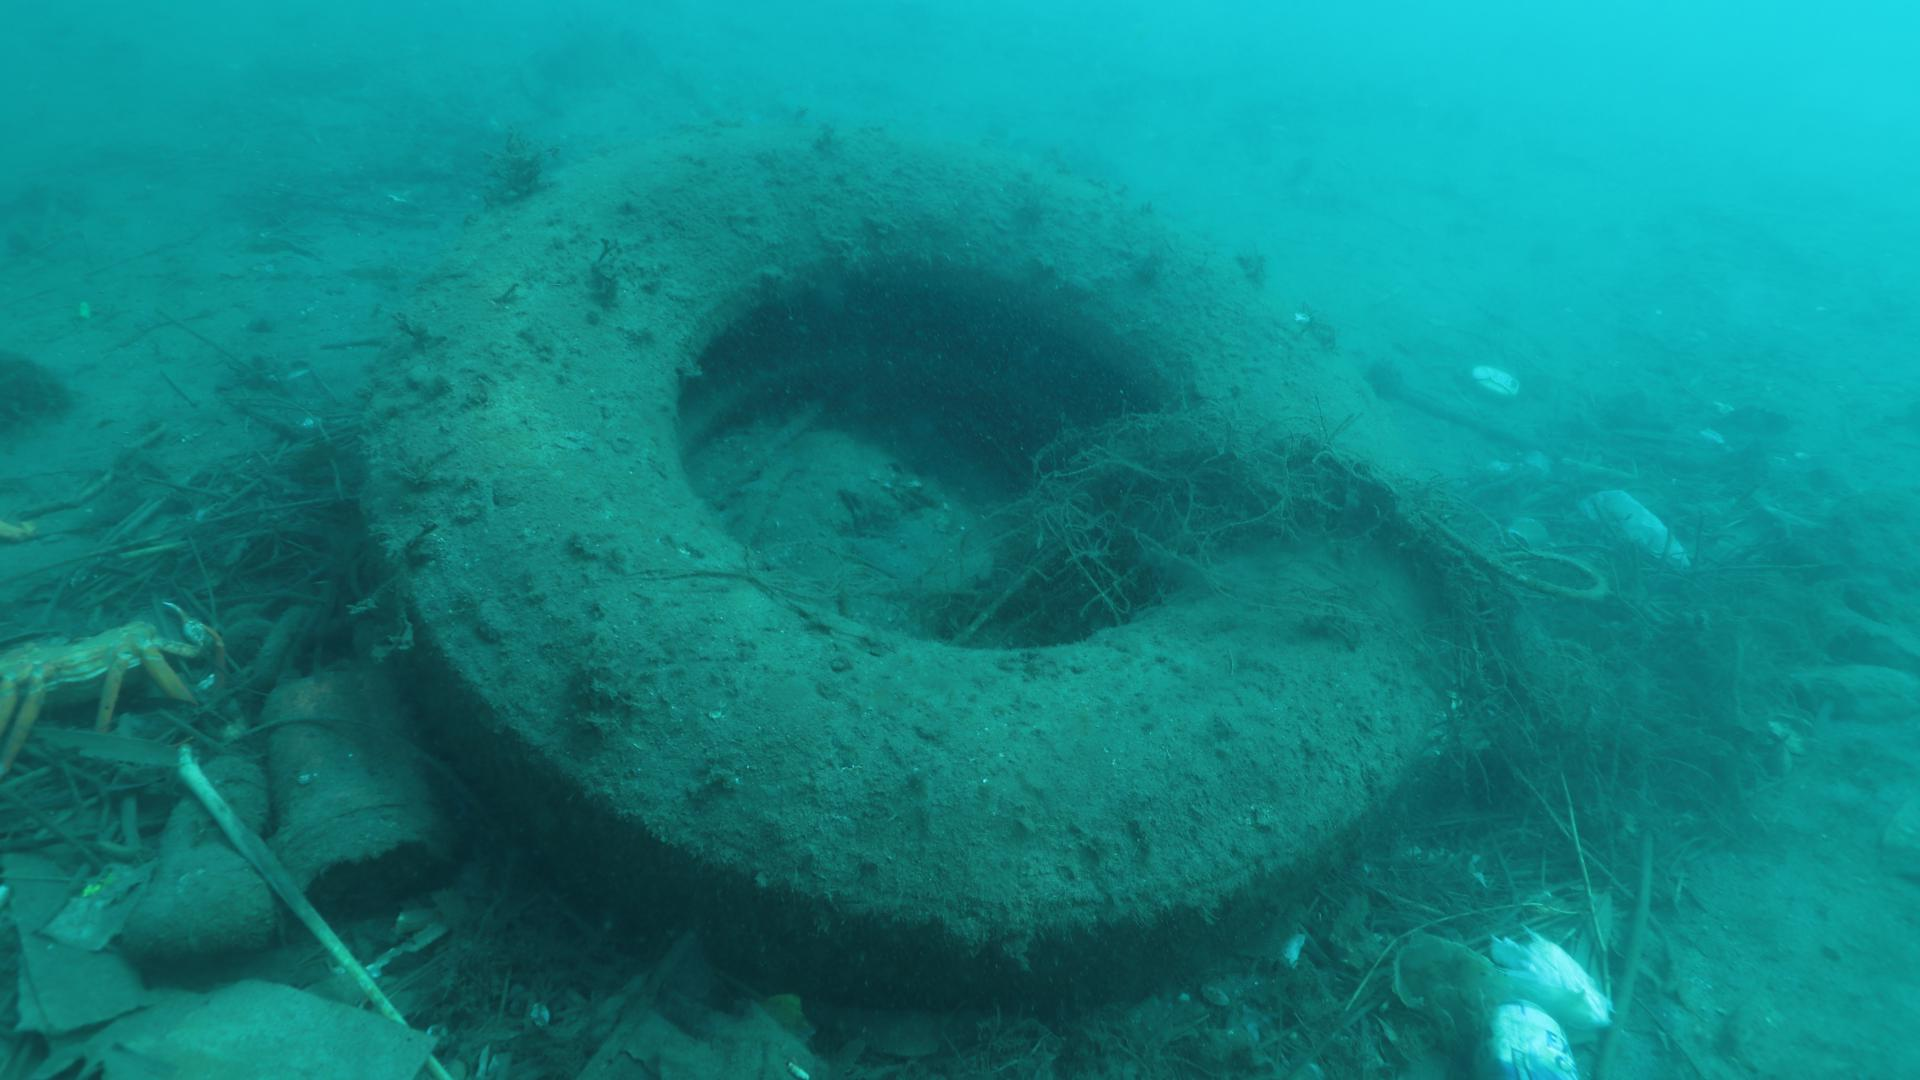tire: (367, 109, 1444, 1007)
